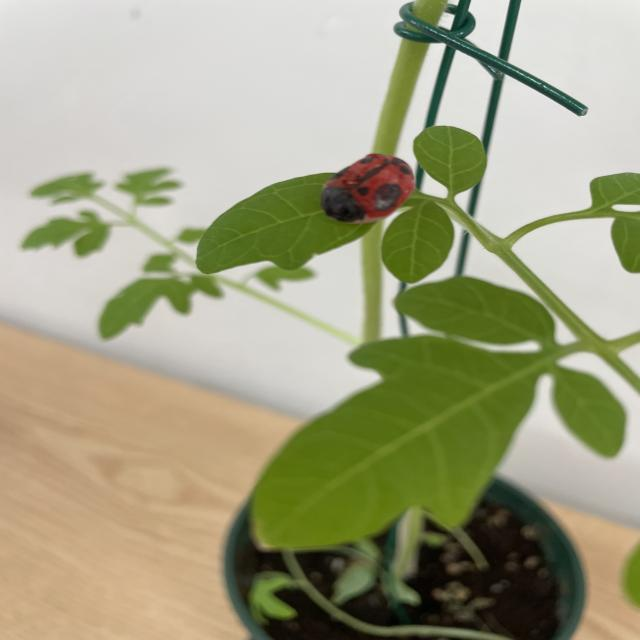bug: (299, 138, 421, 233)
